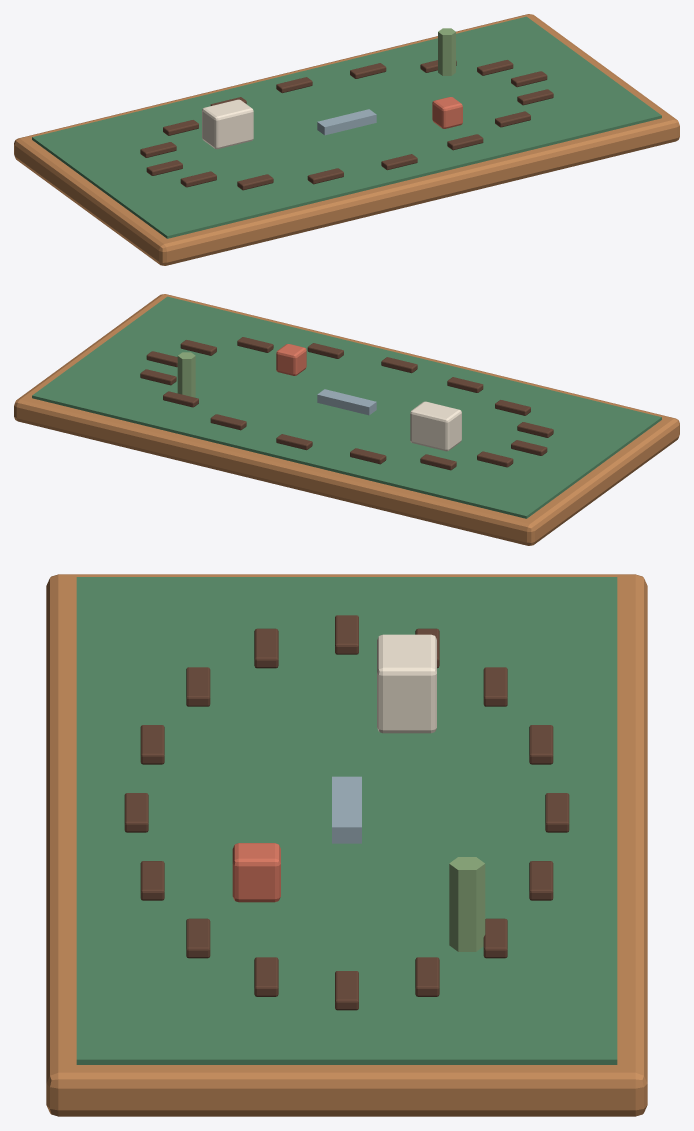
The model's file is train_layout_board.glb.
3 views of the same model, one above another, from view 1: azimuth 30°, elevation 25°; view 2: azimuth 150°, elevation 25°; view 3: azimuth 270°, elevation 25° (orthographic). The views are drawn at different scales.
Parts seen in each view (by area): view 1: train_layout_board; view 2: train_layout_board; view 3: train_layout_board.
Boxes of the visible parts, x1,y1,x2,y2 form: train_layout_board: [14, 14, 679, 265]; train_layout_board: [14, 294, 679, 545]; train_layout_board: [46, 574, 647, 1116].
Size of the model in its own units: 2 by 0.24 by 1.
